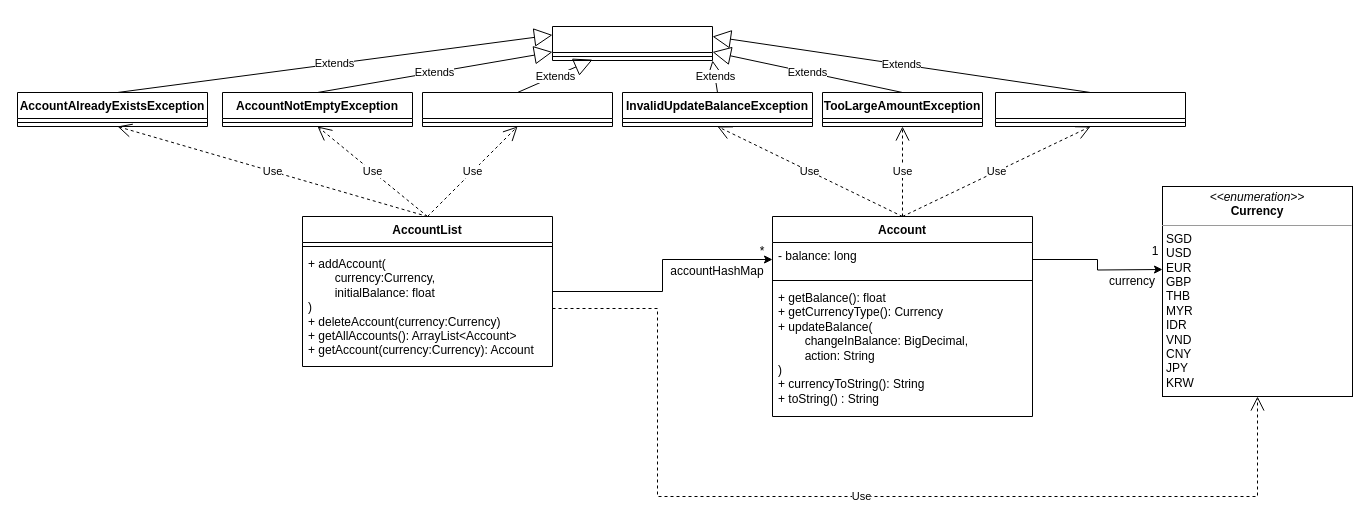
Some shapes in this 1370 by 528 pixel diagram are drawn without their labels. Here are the shapes that lost their labels. From the top down, the centre of each, then its label:
the point at 632,43: Exception
the point at 517,109: NoAccountException
the point at 1090,109: NotEnoughInAccountException
